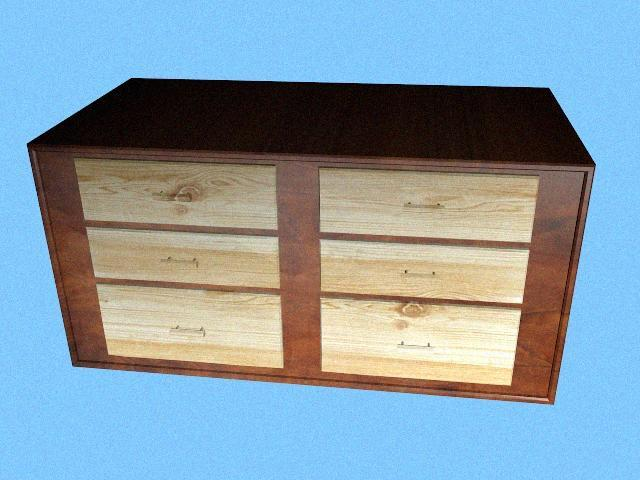cabinet_door: (322, 305, 514, 379), (321, 172, 534, 237), (102, 290, 281, 362), (81, 163, 276, 226), (321, 244, 524, 297), (92, 233, 278, 283)
handle: (396, 196, 456, 218), (156, 250, 203, 273), (147, 189, 202, 208), (166, 319, 210, 342), (394, 263, 441, 284), (394, 336, 441, 356)
